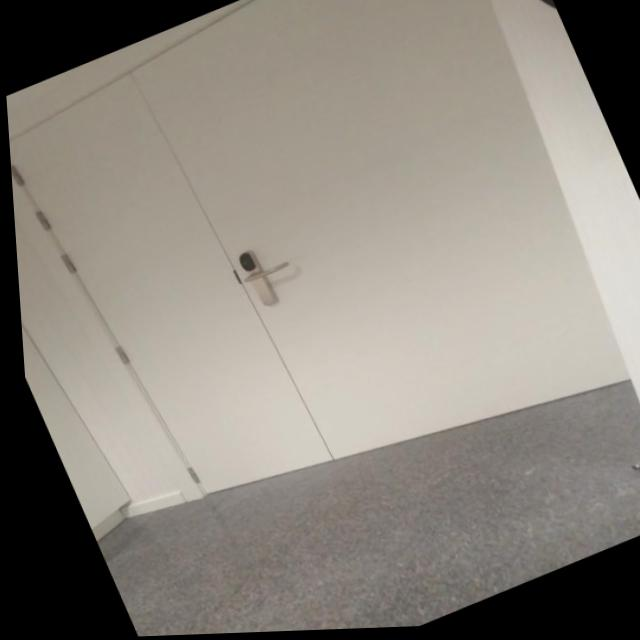door_handle: (230, 258, 295, 291)
